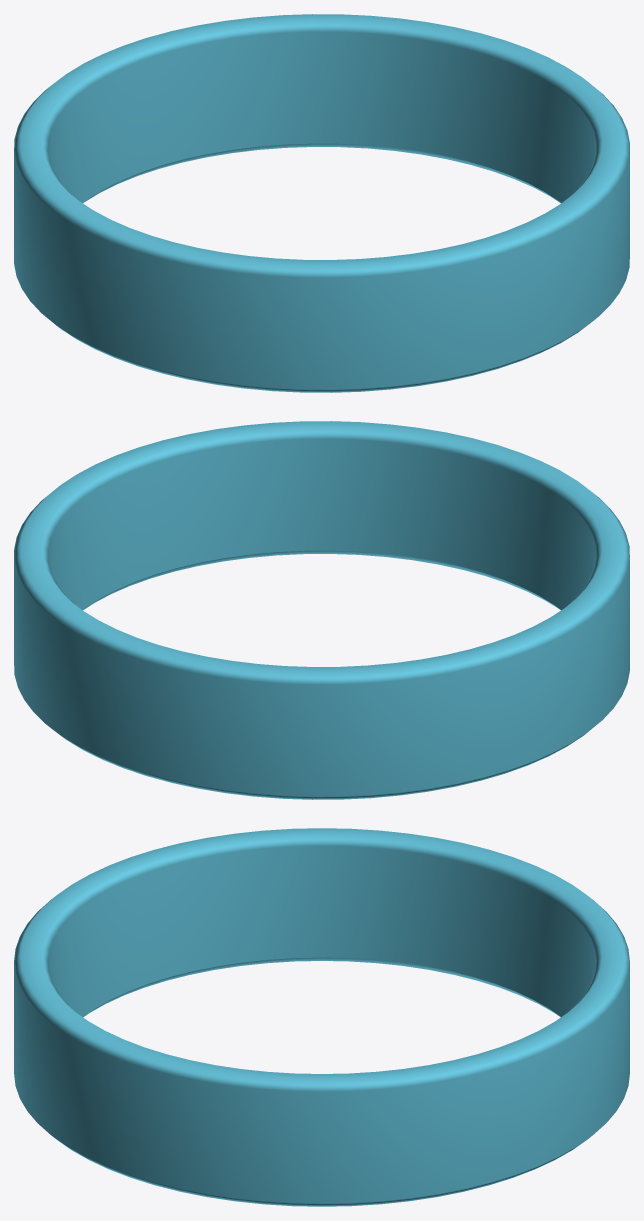
3 views of the same model, one above another, from view 1: azimuth 30°, elevation 25°; view 2: azimuth 150°, elevation 25°; view 3: azimuth 270°, elevation 25° (orthographic).
Parts seen in each view (by area): view 1: seal_body; view 2: seal_body; view 3: seal_body.
Part boxes in pixels (bbox=[...]): seal_body: bbox=[14, 14, 629, 392]; seal_body: bbox=[14, 421, 629, 799]; seal_body: bbox=[14, 828, 629, 1206].
Bounding box in the file's own units: 0.0571 × 0.0127 × 0.0571.
